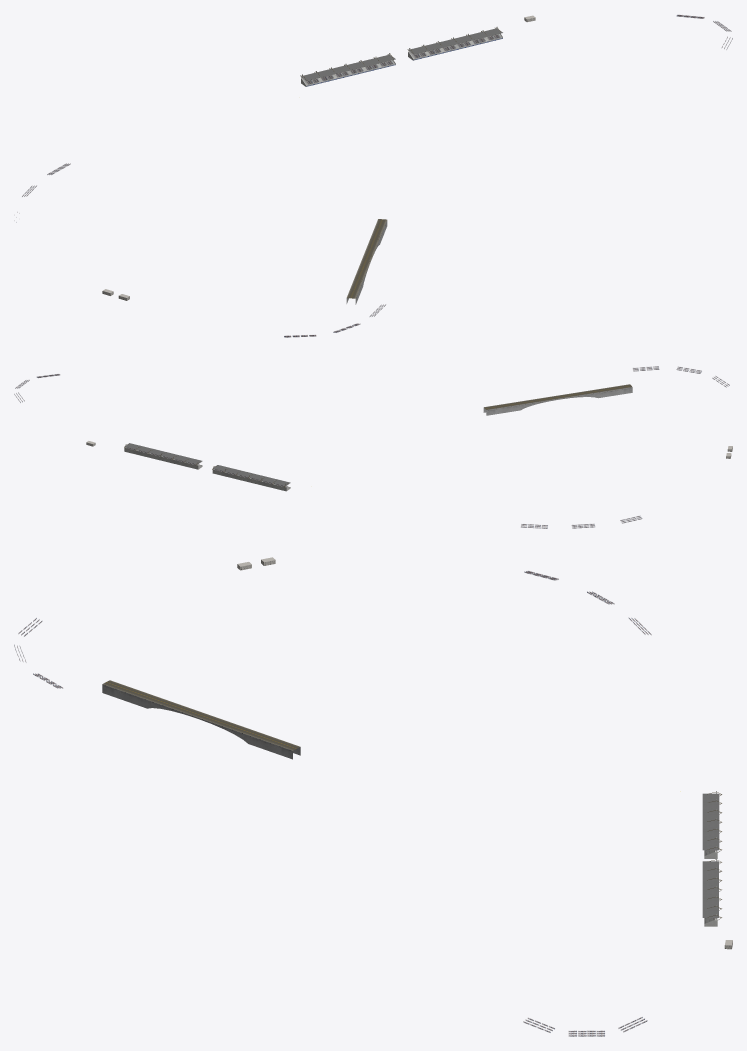
The picture shows the model from 3 angles, top to bottom: view 1: azimuth 30°, elevation 25°; view 2: azimuth 150°, elevation 25°; view 3: azimuth 270°, elevation 25°; orthographic projection. The views are drawn at different scales.
Visible parts, largest first — view 1: highspeedring2_2; view 2: highspeedring2_2; view 3: highspeedring2_2.
Boxes of the visible parts, x1,y1,x2,y2 form: highspeedring2_2: (14, 15, 732, 337); highspeedring2_2: (14, 366, 732, 528); highspeedring2_2: (14, 557, 732, 1036).
Bounding box in the file's own units: 1399 × 25.45 × 901.
Materials: 5 (5 with a texture image).
